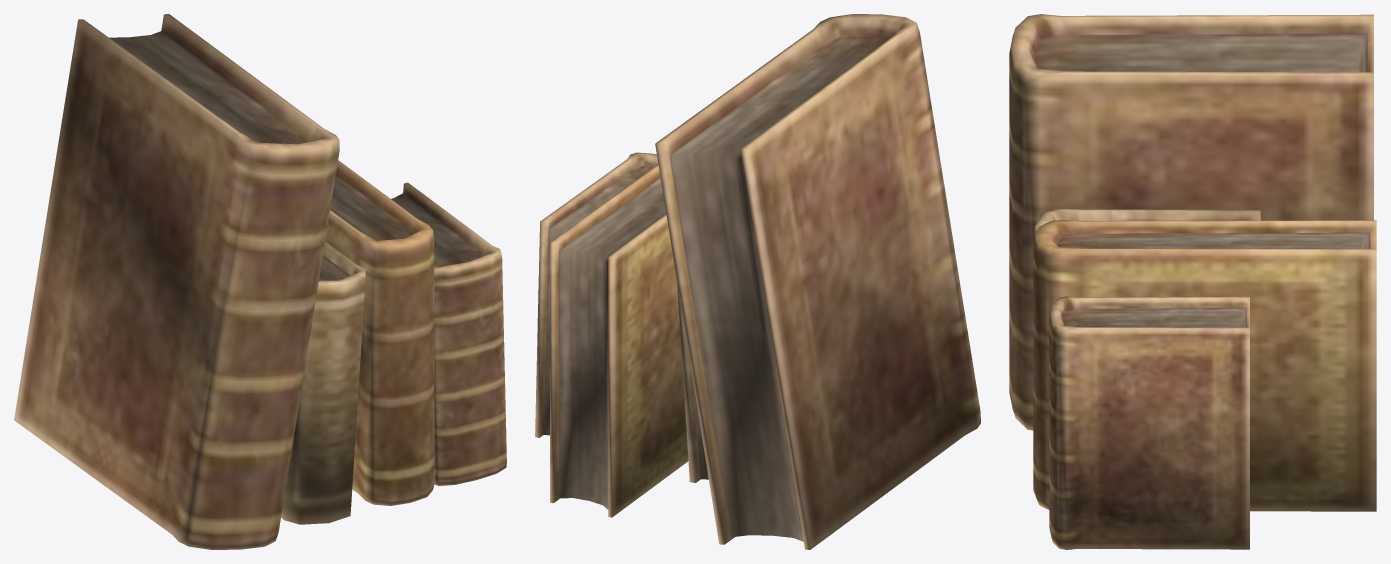
File: book_pile_03_c.glb
3 renders of one model, left to right at view 1: azimuth 30°, elevation 25°; view 2: azimuth 150°, elevation 25°; view 3: azimuth 270°, elevation 25°, orthographic.
Parts seen in each view (by area): view 1: global_props_book_pile_01_c; view 2: global_props_book_pile_01_c; view 3: global_props_book_pile_01_c.
Part boxes in pixels (<box>): global_props_book_pile_01_c: <box>14,14,506,549</box>; global_props_book_pile_01_c: <box>535,14,980,549</box>; global_props_book_pile_01_c: <box>1009,14,1376,549</box>.
Bounding box in the file's own units: 0.6247 × 0.7078 × 0.5841.
1 material, 1 textured.
